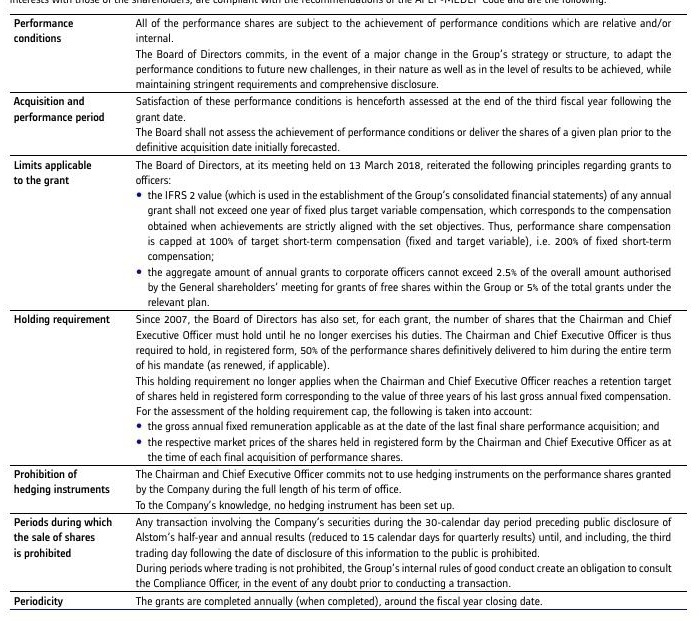table: (0, 0, 699, 621)
